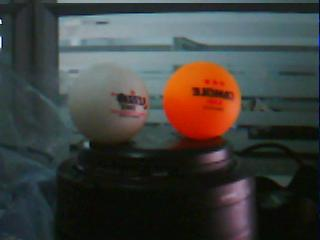oball: (164, 61, 240, 139)
